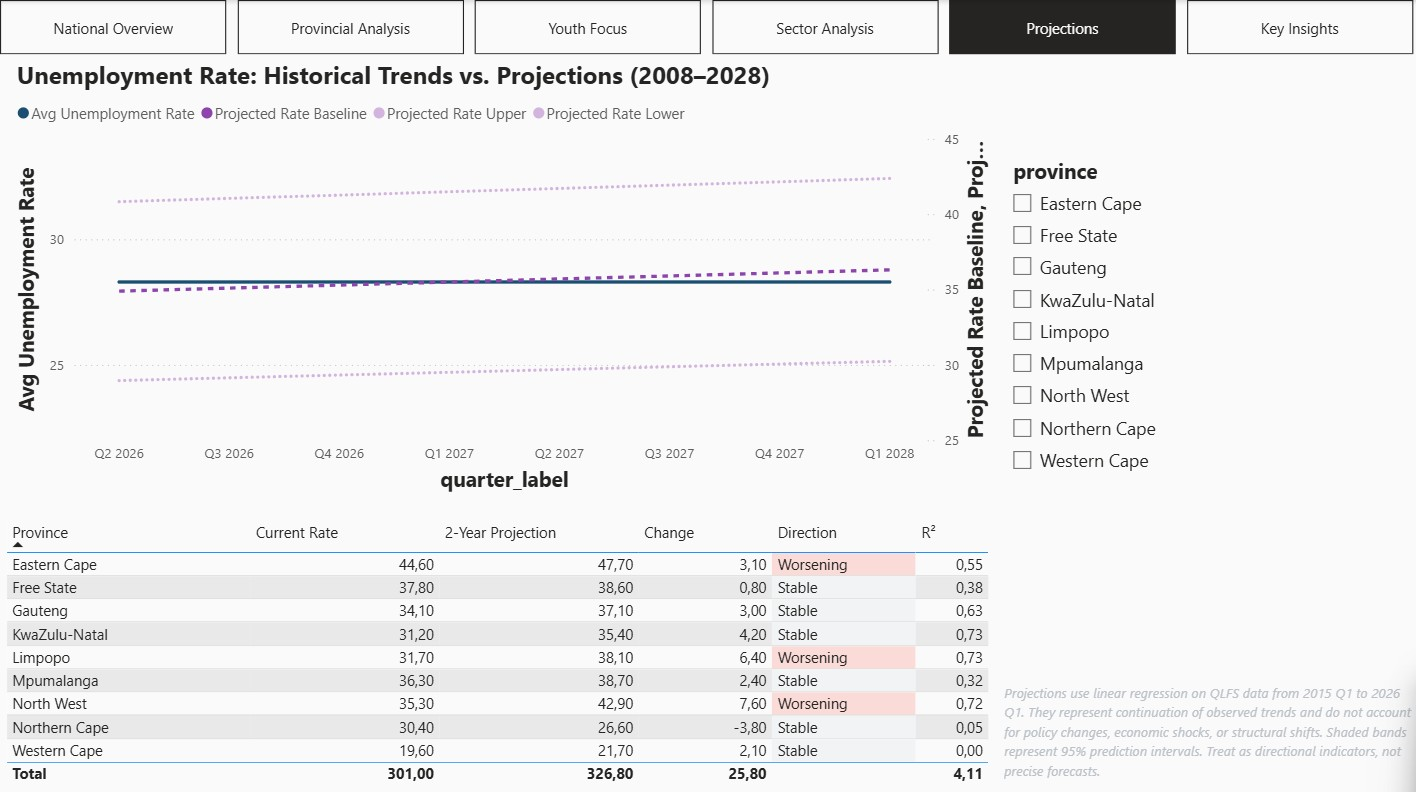

What the dashboard file says about the page in this screenshot:
{"tool":"powerbi","page":{"name":"Projections","canvas":[1280,720],"ordinal":4},"visuals":[{"type":"lineChart","title":"Unemployment Rate: Historical Trends vs. Projections (2008–2028)","fields":{"Y":["_Measures.Avg Unemployment Rate"],"Y2":["_Measures.Projected Rate Baseline","_Measures.Projected Rate Upper","_Measures.Projected Rate Lower"],"Category":["fact_projections.quarter_label"]},"box":[10.7,53.5,889.9,395.7],"z":0},{"type":"tableEx","fields":{"Values":["fact_trend_summary.province","Sum(fact_trend_summary.current_rate)","Sum(fact_trend_summary.projected_rate_2yrs)","Sum(fact_trend_summary.change_in_2yrs)","fact_trend_summary.trend_direction","Sum(fact_trend_summary.r_squared)"]},"box":[0,464.2,900.5,256.7],"z":1000},{"type":"textbox","box":[900.5,609.6,378.6,111.2],"z":2000},{"type":"pageNavigator","box":[0,0,1279.2,49.2],"z":3000},{"type":"slicer","fields":{"Values":["DimProvince.province"]},"box":[900.5,136.9,378.6,312.3],"z":4000}]}

Visuals, with their boxes in screenshot pixels (x1, y1, x2, y2), scaled from the page's 1280x720 canvas onto the 1416x792 screenshot:
"Unemployment Rate: Historical Trends vs. Projections (2008–2028)" lineChart: 12/59/996/494
tableEx - fact_trend_summary.province x Sum(fact_trend_summary.current_rate): 0/511/996/791
textbox: 996/671/1415/791
pageNavigator: 0/0/1415/54
slicer - DimProvince.province: 996/151/1415/494
